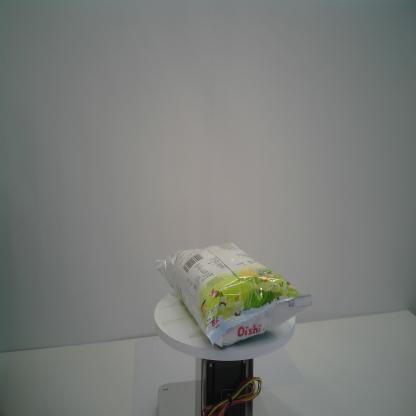Puffed Food: (154, 242, 314, 348)
